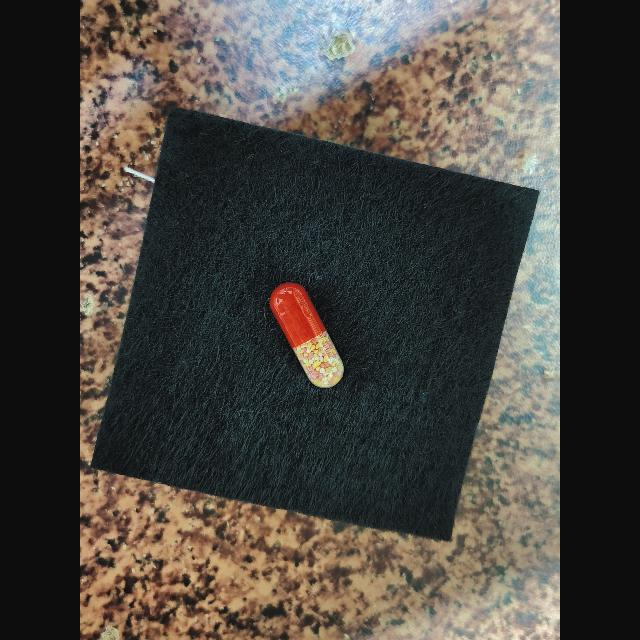Intact Capsule: (269, 283, 344, 388)
